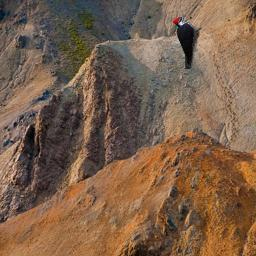Woodpecker: (171, 14, 202, 69)
